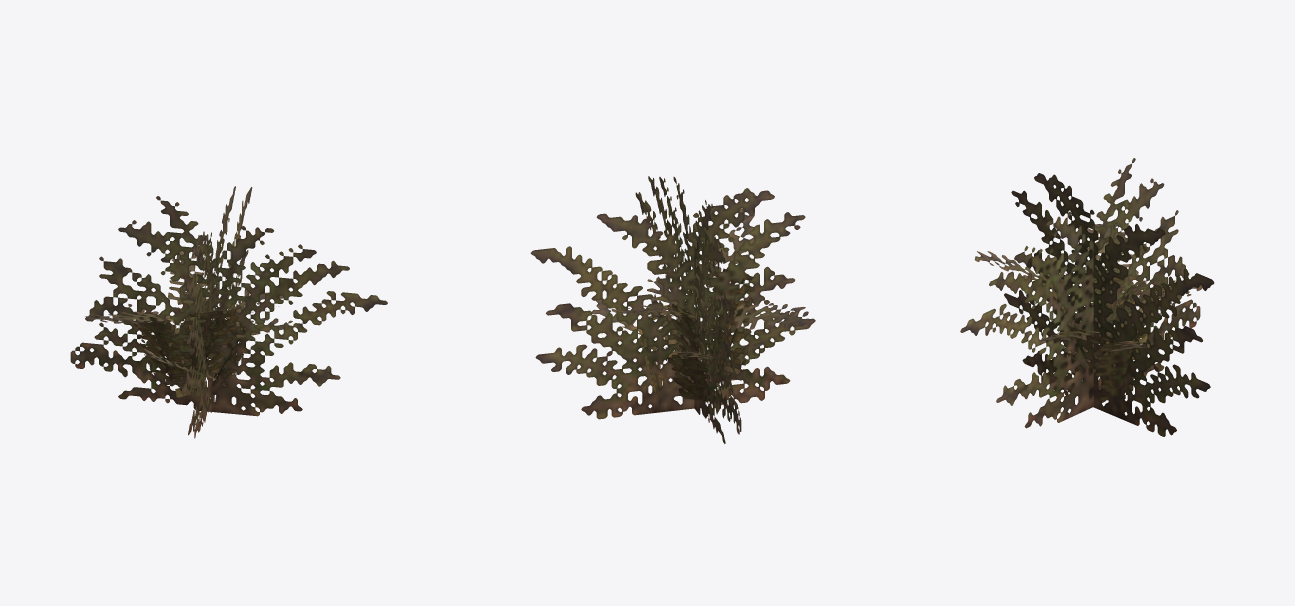
Rendered from charred_fern.obj.
The picture shows the model from 3 angles, left to right: view 1: azimuth 30°, elevation 25°; view 2: azimuth 150°, elevation 25°; view 3: azimuth 270°, elevation 25°; orthographic projection. The views are drawn at different scales.
Parts seen in each view (by area): view 1: cube; view 2: cube; view 3: cube.
Boxes of the visible parts, <box> form: cube: <box>70,186,387,438</box>; cube: <box>530,176,815,443</box>; cube: <box>960,158,1214,436</box>.
Bounding box in the file's own units: 2.07 × 2.81 × 2.03.
